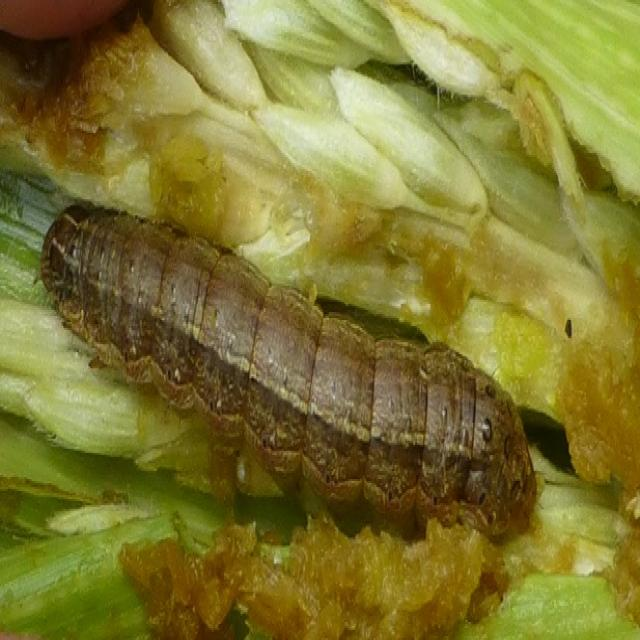worm: (40, 197, 539, 541)
